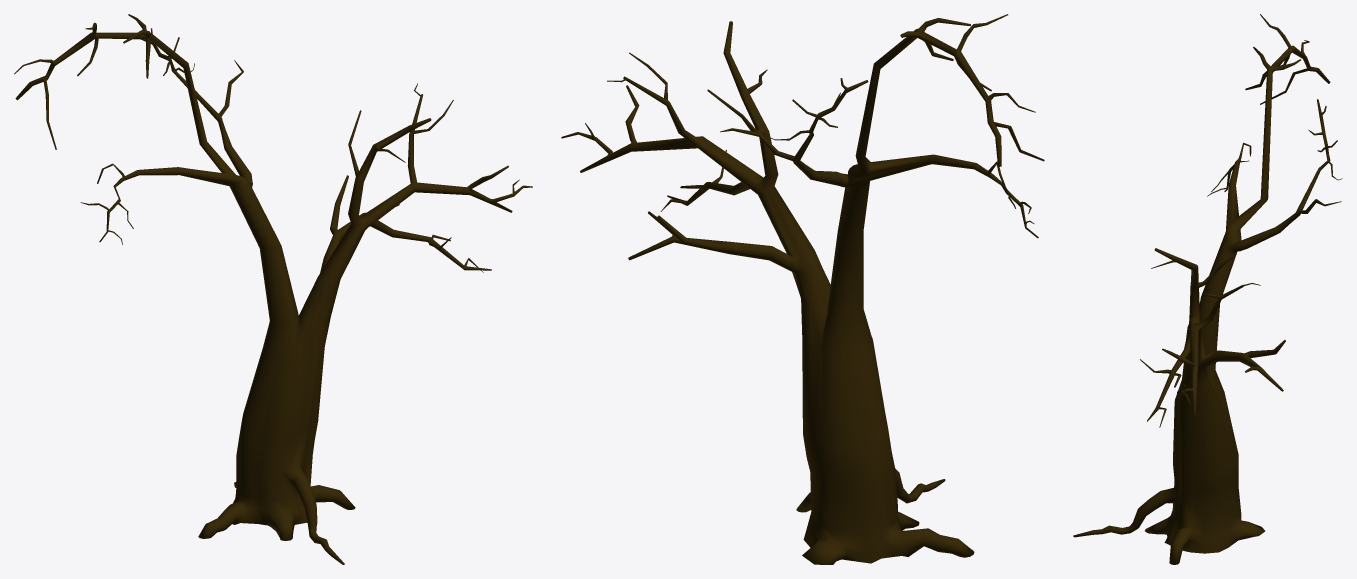
Rendered from drzewo3.fbx.
3 views of the same model, side by side, from view 1: azimuth 30°, elevation 25°; view 2: azimuth 150°, elevation 25°; view 3: azimuth 270°, elevation 25° (orthographic). The views are drawn at different scales.
Visible parts, largest first — view 1: drzewo3; view 2: drzewo3; view 3: drzewo3.
Part boxes in pixels (x1=…): drzewo3: x1=14, y1=14, x2=532, y2=564; drzewo3: x1=561, y1=14, x2=1044, y2=564; drzewo3: x1=1073, y1=14, x2=1342, y2=564.
Bounding box in the file's own units: 3381 × 3554 × 1906.
